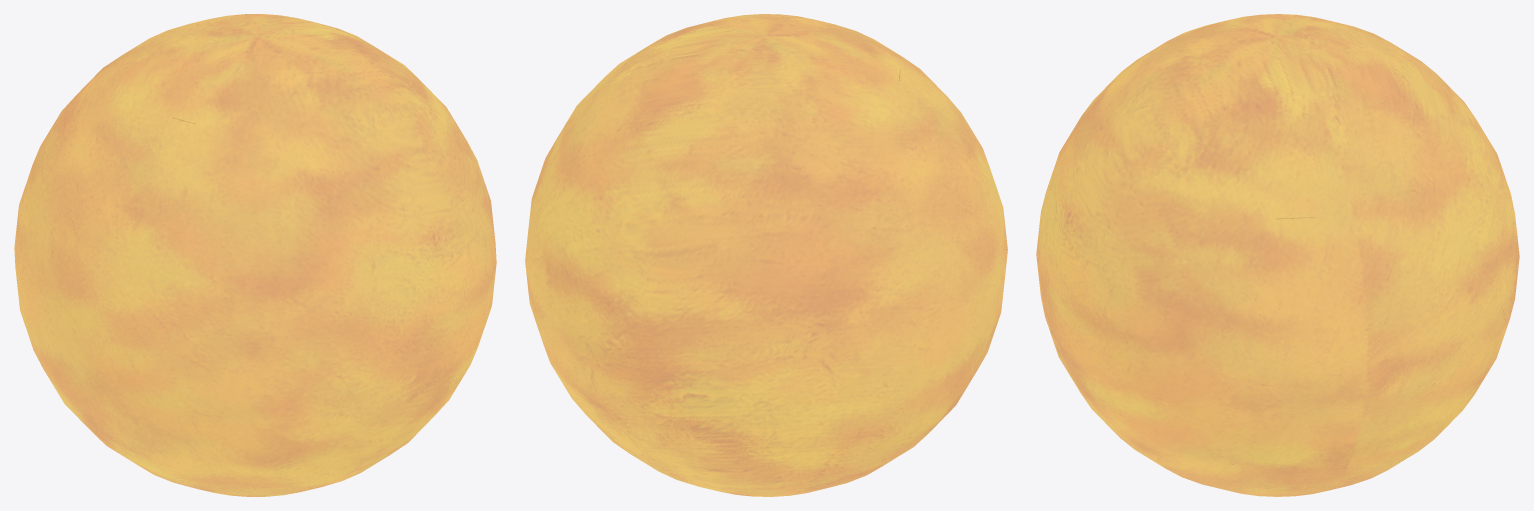
Rendered from Ball3.fbx.
The picture shows the model from 3 angles, left to right: view 1: azimuth 30°, elevation 25°; view 2: azimuth 150°, elevation 25°; view 3: azimuth 270°, elevation 25°; orthographic projection.
Parts seen in each view (by area): view 1: Ball; view 2: Ball; view 3: Ball.
Boxes of the visible parts, x1,y1,x2,y2 form: Ball: [14, 14, 496, 496]; Ball: [525, 14, 1007, 496]; Ball: [1036, 14, 1519, 496].
Size of the model in its own units: 25.14 by 25.14 by 25.14.
Materials: 1 (1 with a texture image).
